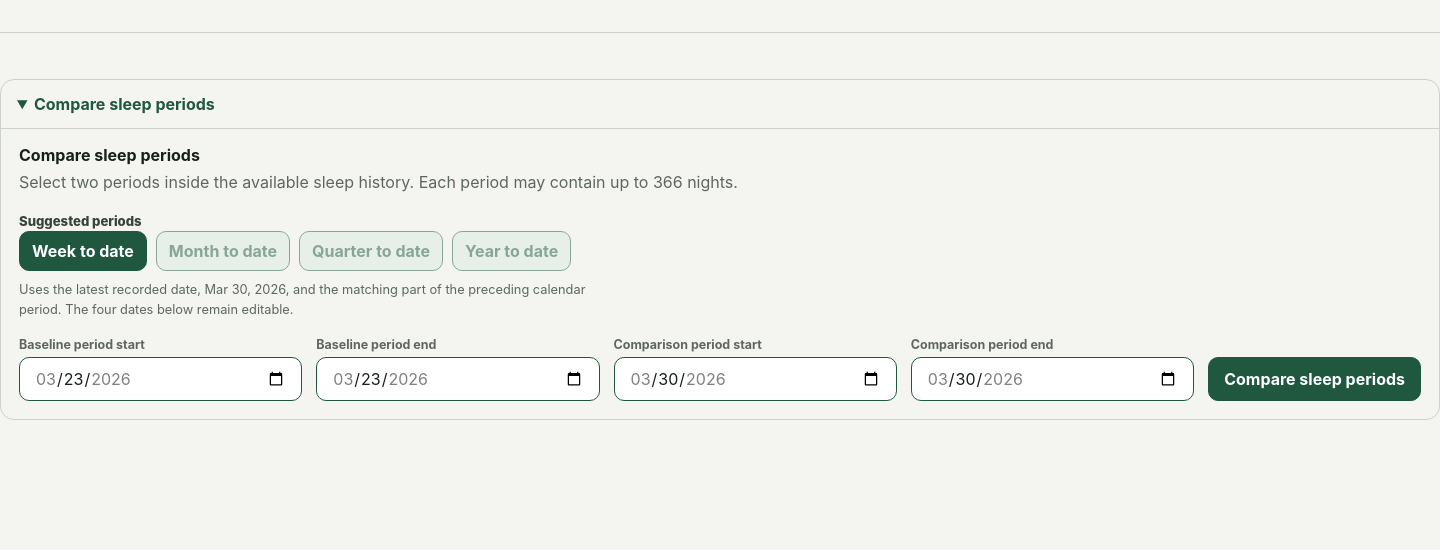
SleepComparisonPanel › states when neither period contains a recorded night without inventing a value
Click the button "Compare sleep periods" at {"x": 1315, "y": 380}, box top-left (1208, 358), bottom-right (1421, 402)
(page scrolled)
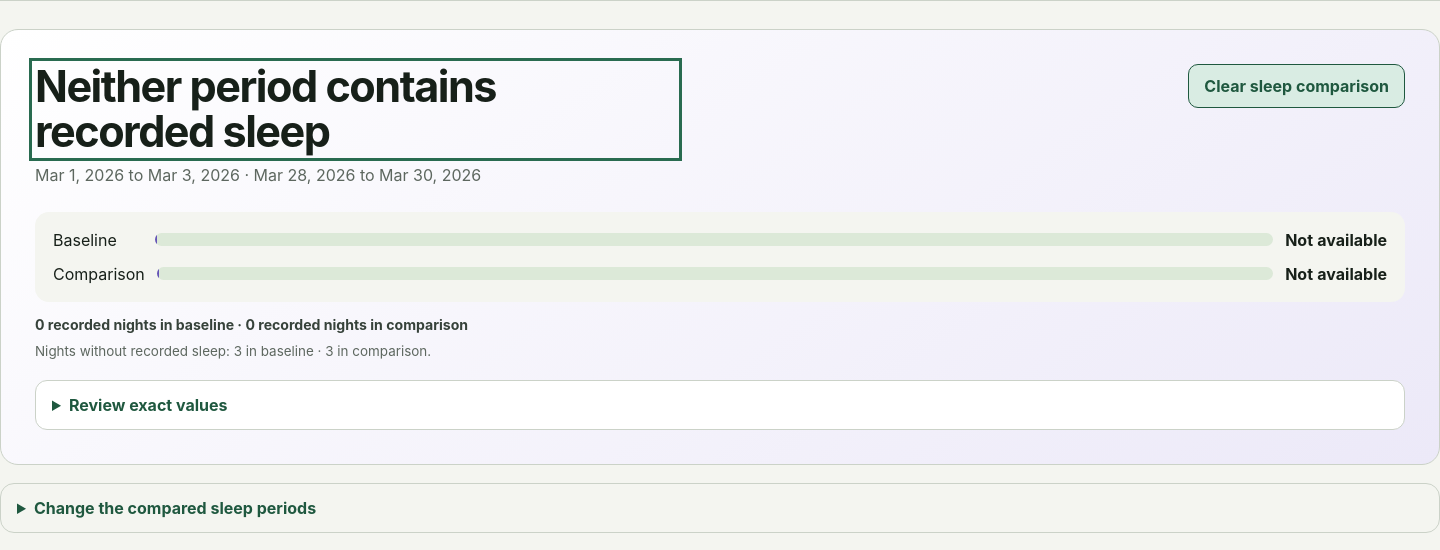
Now the heading "Neither period contains recorded sleep" is shown, box top-left (35, 60), bottom-right (496, 157)
Now the text "0 recorded nights in baseline · 0 recorded nights in comparison" is shown, box top-left (35, 316), bottom-right (468, 332)
